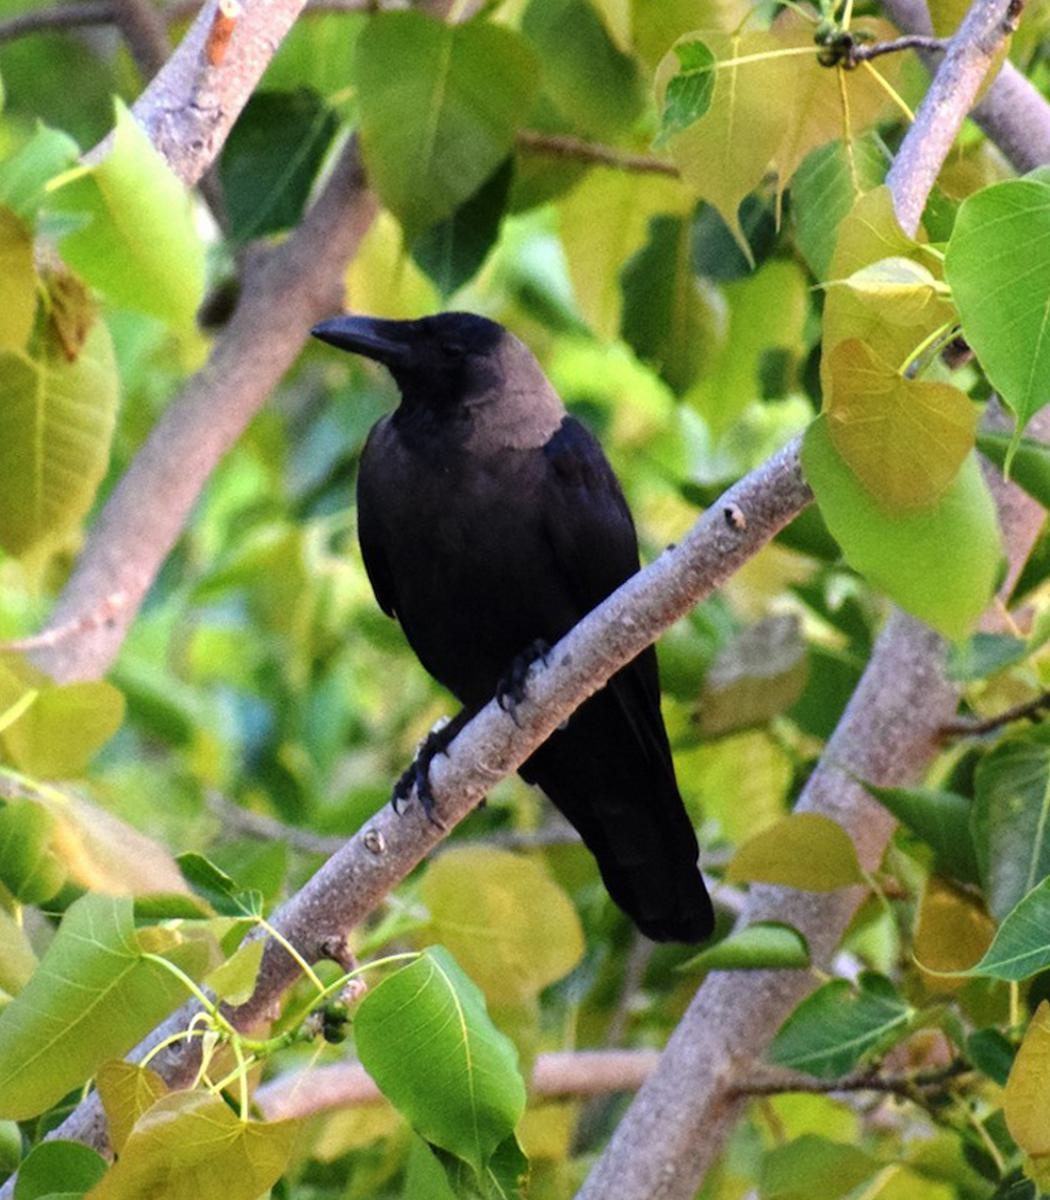crow: (294, 284, 758, 909)
